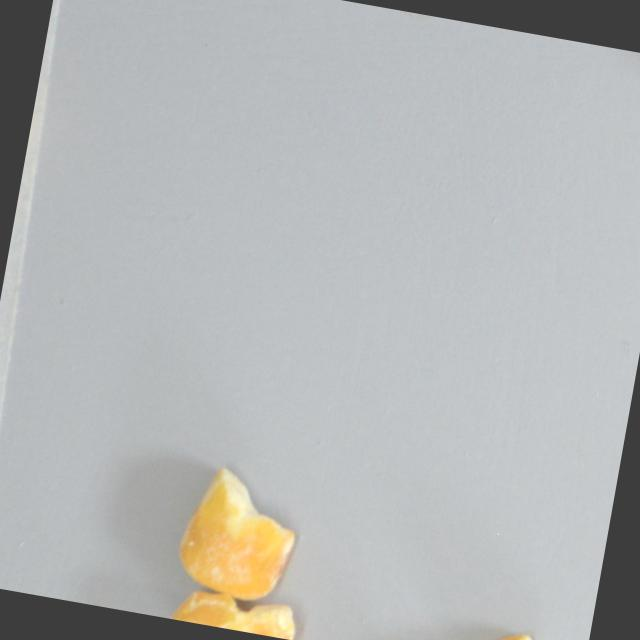no_canjicado: (463, 620, 579, 640)
pelicula: (169, 460, 304, 606), (163, 582, 298, 640)
